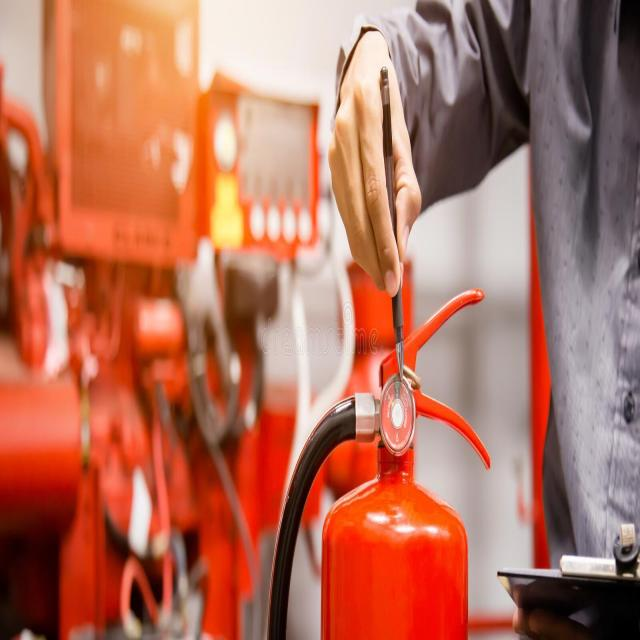fire_extinguisher: (262, 282, 496, 639)
